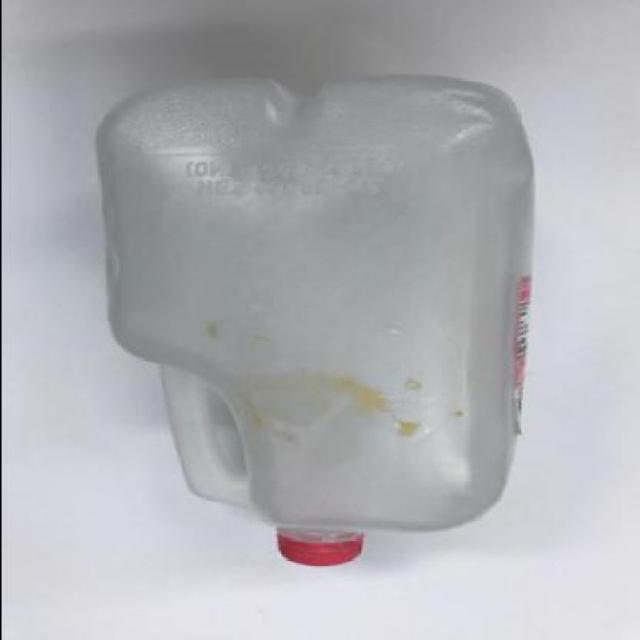PLASTIC: (96, 79, 536, 566), (280, 530, 363, 567)
